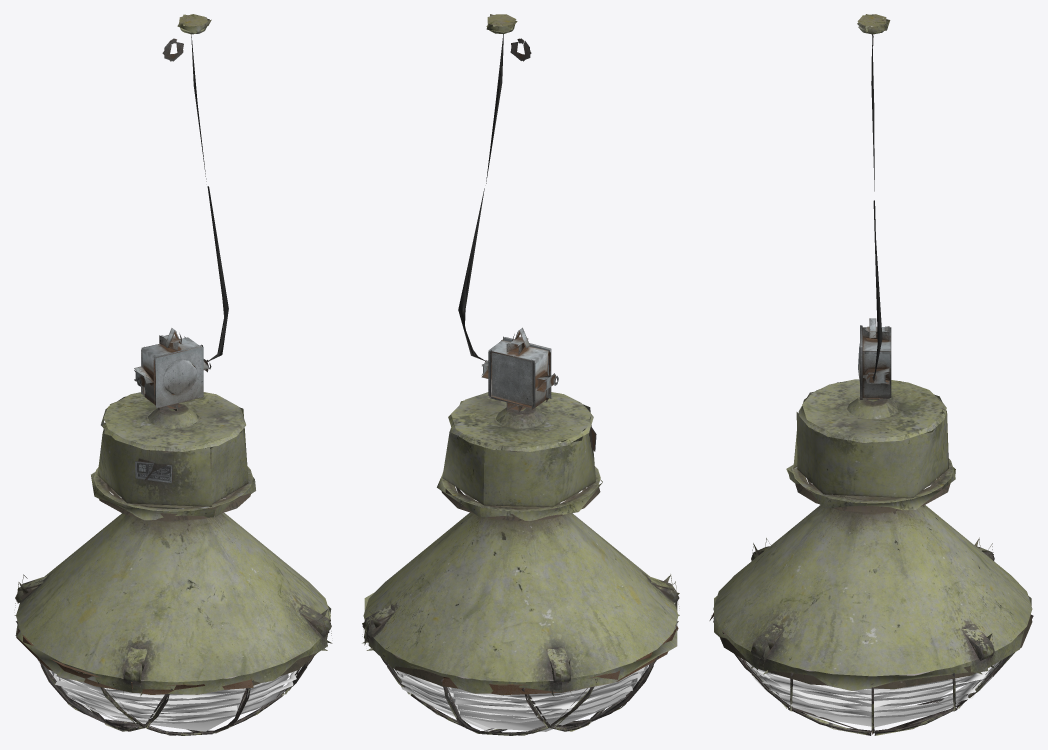
The model's file is hanging_industrial_lamp.fbx.
3 renders of one model, left to right at view 1: azimuth 30°, elevation 25°; view 2: azimuth 150°, elevation 25°; view 3: azimuth 270°, elevation 25°, orthographic.
Visible parts, largest first — view 1: hanging_industrial_lamp; view 2: hanging_industrial_lamp; view 3: hanging_industrial_lamp.
Boxes of the visible parts, x1=… form: hanging_industrial_lamp: x1=14, y1=14, x2=332, y2=735; hanging_industrial_lamp: x1=362, y1=14, x2=679, y2=735; hanging_industrial_lamp: x1=709, y1=14, x2=1033, y2=735.
Bounding box in the file's own units: 56.32 × 134 × 55.87.
Materials: 2 (1 with a texture image).
